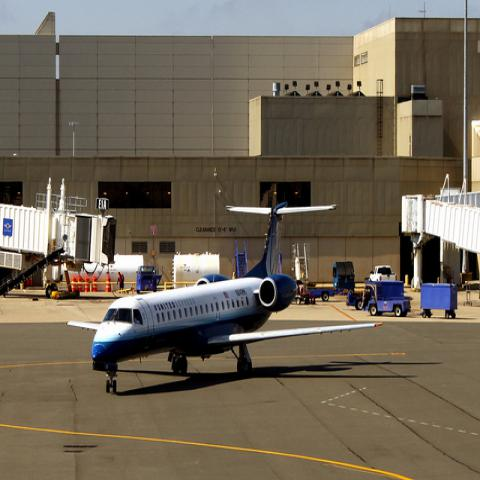truck: (362, 282, 410, 318), (333, 262, 355, 294), (369, 265, 397, 282)
